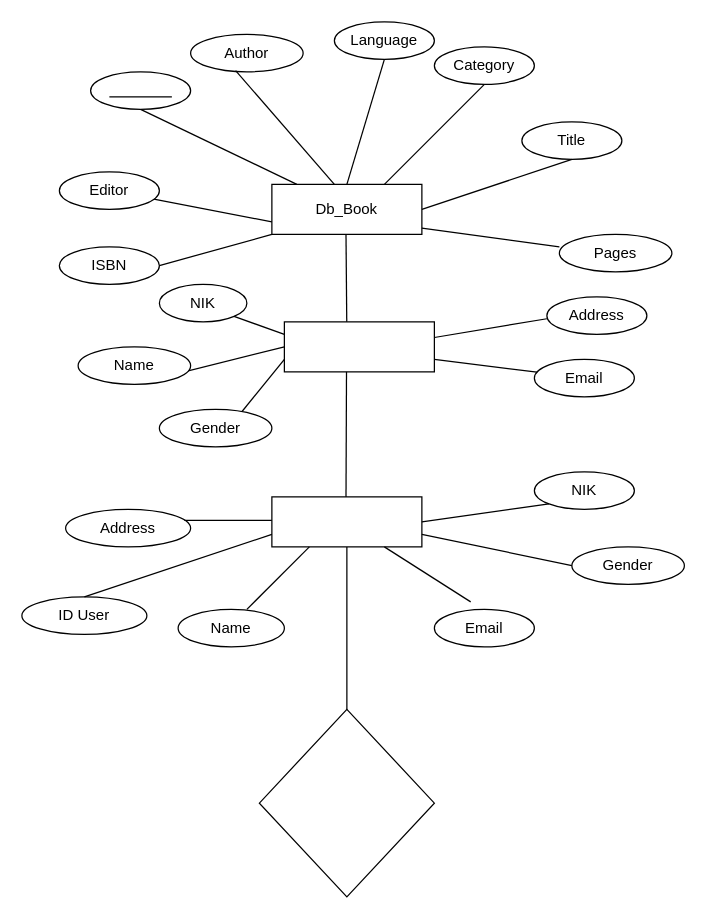
This 706x919 diagram has some shape labels left out. The centre of each missing label's shape, as x and y in pixels:
Db_Admin: (x=358, y=346)
Db_User: (x=346, y=521)
ID Book: (x=140, y=90)
